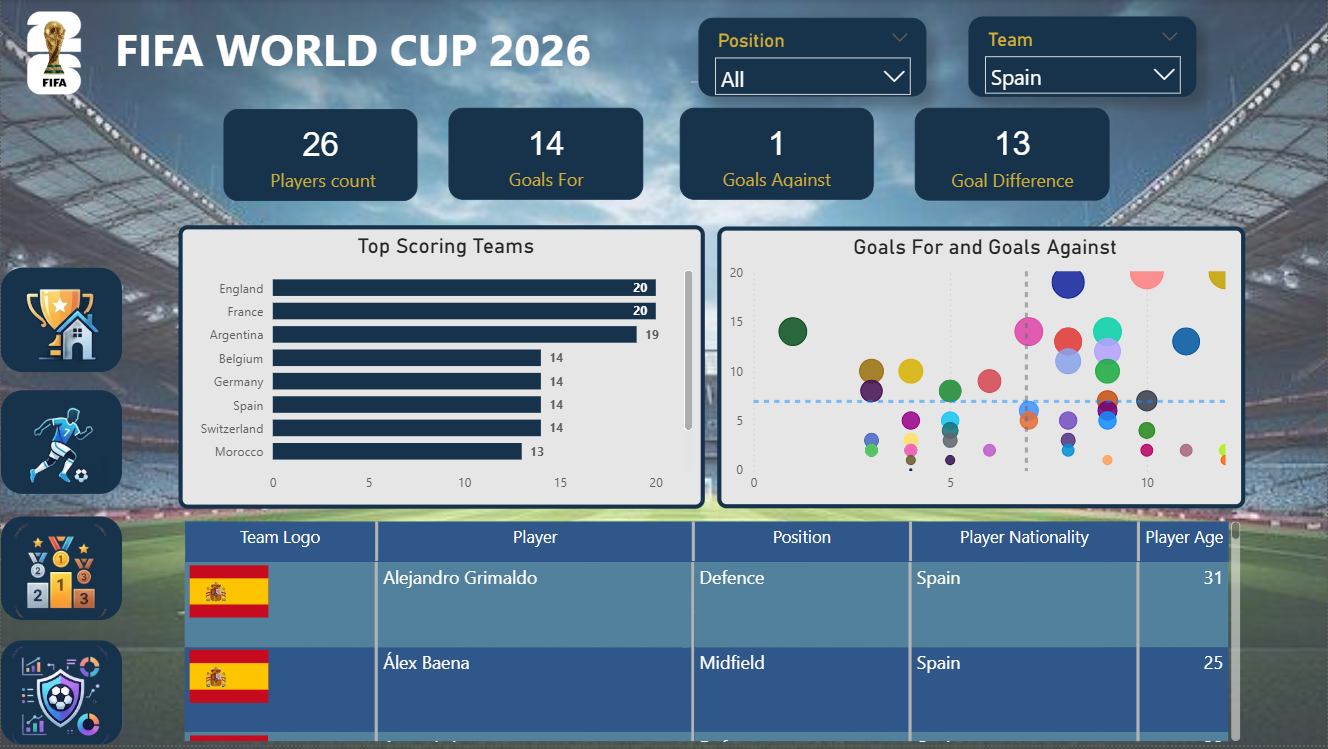

The page's visual inventory and layout, read from the dashboard file:
{"tool":"powerbi","page":{"name":"Team Analysis","canvas":[1280,720],"ordinal":4},"visuals":[{"type":"card","fields":{"Values":["My Measures.Registered Players"]},"box":[214.2,105.8,187.1,88.6],"z":0},{"type":"card","fields":{"Values":["My Measures.Goal Difference"]},"box":[882.5,104.6,188.3,89.8],"z":1000},{"type":"slicer","fields":{"Values":["Dim_Team.Team"]},"box":[934.2,17.2,220.3,77.5],"z":2000},{"type":"card","fields":{"Values":["My Measures.Goals For"]},"box":[432,104.6,188.3,88.6],"z":3000},{"type":"card","fields":{"Values":["My Measures.Goals Against"]},"box":[654.8,104.6,187.1,88.6],"z":4000},{"type":"clusteredBarChart","title":"Top Scoring Teams","fields":{"Category":["Dim_Team.Team"],"Y":["My Measures.Goals For"]},"box":[171.1,217.8,508.3,273.2],"z":5000},{"type":"tableEx","fields":{"Values":["Dim_Team.Team Logo","Dim_Players.Player","Dim_Players.Position","Dim_Players.Player Nationality","Sum(Dim_Players.Player Age)"]},"box":[171.1,499.7,1030.2,221.5],"z":6000},{"type":"image","box":[0,377.8,116.9,99.7],"z":7000},{"type":"image","box":[0,619.1,116.9,100.9],"z":8000},{"type":"image","box":[0,259.7,116.9,100.9],"z":9000},{"type":"image","box":[0,499.7,116.9,99.7],"z":10000},{"type":"scatterChart","title":"Goals For and Goals Against ","fields":{"Series":["Dim_Team.Team"],"X":["My Measures.Goals Against"],"Y":["My Measures.Goals For"],"Size":["My Measures.Goals For"]},"box":[691.7,219.1,509.5,272],"z":11000},{"type":"image","box":[0,12.1,102.5,79.6],"z":12000},{"type":"textbox","title":" FIFA WORLD CUP 2026","box":[0,18.1,679.2,67.6],"z":13000},{"type":"slicer","fields":{"Values":["Dim_Players.Position"]},"box":[673.2,18.5,220.3,76.3],"z":14000}]}

Visuals, with their boxes in screenshot pixels (x1, y1, x2, y2), scaled from the page's 1280x720 canvas onto the 1328x749 screenshot:
card - My Measures.Registered Players: locate(222, 110, 416, 202)
card - My Measures.Goal Difference: locate(916, 109, 1111, 202)
slicer - Dim_Team.Team: locate(969, 18, 1198, 99)
card - My Measures.Goals For: locate(448, 109, 644, 201)
card - My Measures.Goals Against: locate(679, 109, 873, 201)
"Top Scoring Teams" clusteredBarChart: locate(178, 227, 705, 511)
tableEx - Dim_Team.Team Logo x Dim_Players.Player: locate(178, 520, 1246, 748)
image: locate(0, 393, 121, 497)
image: locate(0, 644, 121, 748)
image: locate(0, 270, 121, 375)
image: locate(0, 520, 121, 624)
"Goals For and Goals Against " scatterChart: locate(718, 228, 1246, 511)
image: locate(0, 13, 106, 95)
" FIFA WORLD CUP 2026" textbox: locate(0, 19, 705, 89)
slicer - Dim_Players.Position: locate(698, 19, 927, 99)
